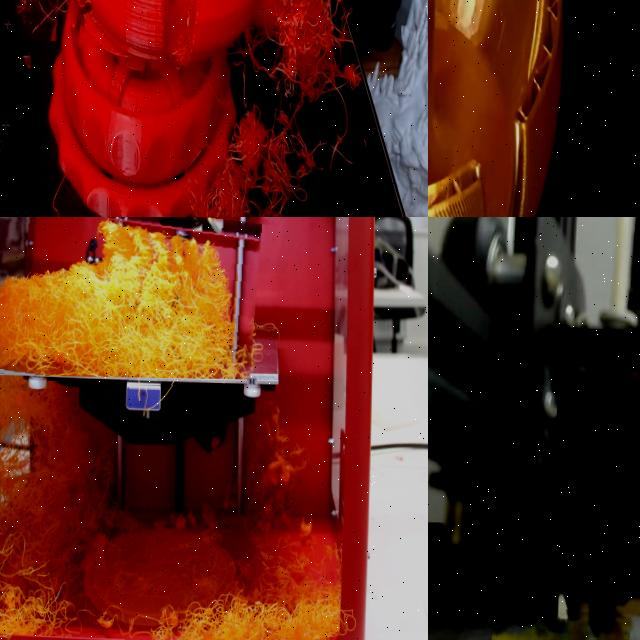spaghetti: (0, 378, 344, 640), (0, 217, 261, 379), (204, 0, 358, 217), (491, 610, 630, 640)
